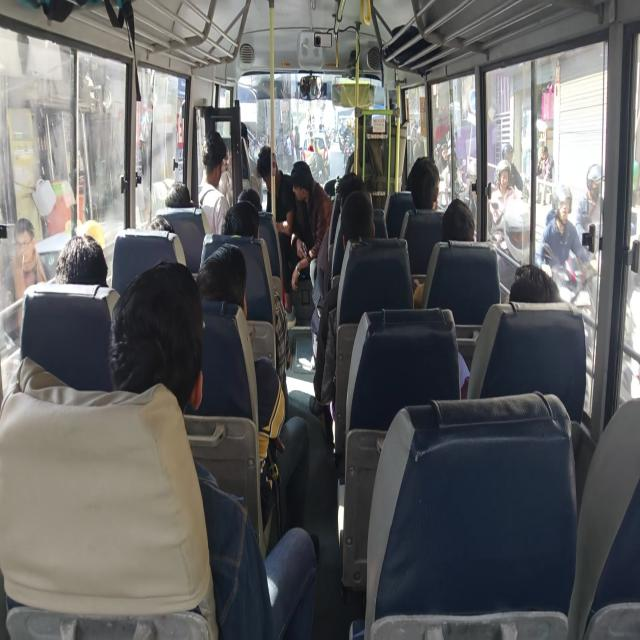person: (112, 249, 216, 418), (199, 240, 255, 337), (52, 224, 114, 306), (432, 186, 484, 254), (336, 182, 382, 255), (505, 259, 559, 317), (405, 146, 448, 216), (221, 200, 266, 258), (192, 125, 230, 190), (290, 148, 318, 212), (159, 174, 197, 217), (255, 141, 283, 190), (334, 171, 364, 209), (356, 100, 377, 149), (146, 209, 172, 248), (237, 186, 270, 214), (397, 159, 422, 192), (234, 118, 252, 159)
